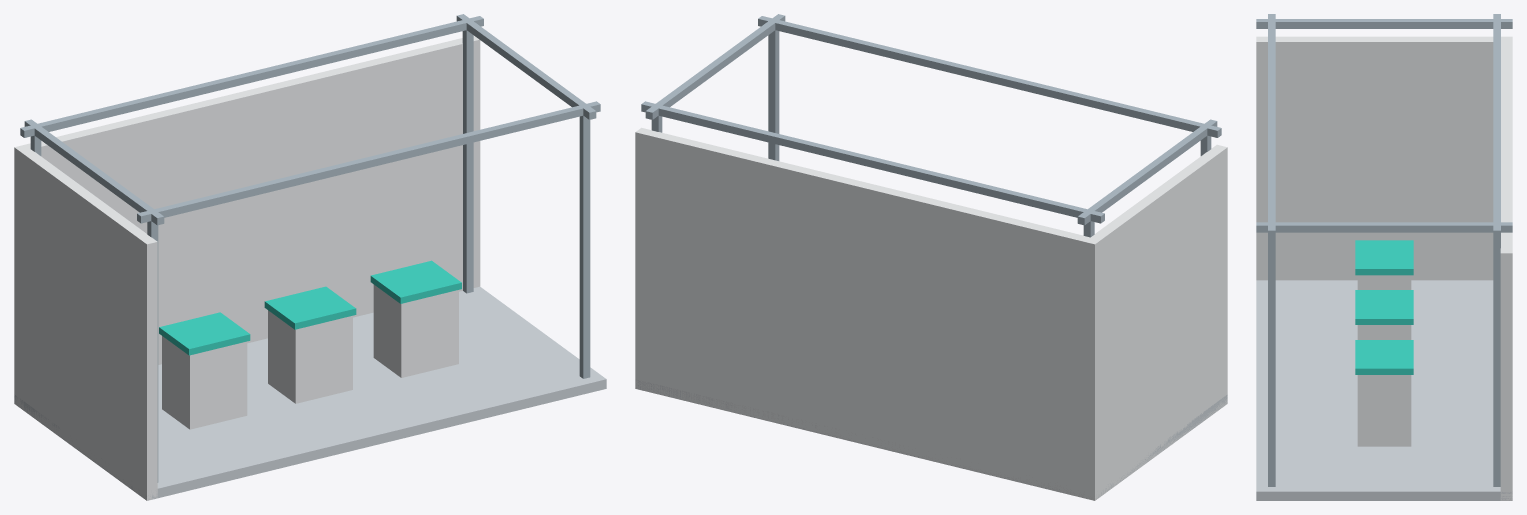
3 views of the same model, side by side, from view 1: azimuth 30°, elevation 25°; view 2: azimuth 150°, elevation 25°; view 3: azimuth 270°, elevation 25° (orthographic). The views are drawn at different scales.
Visible parts, largest first — view 1: Exhibition Booth Concept; view 2: Exhibition Booth Concept; view 3: Exhibition Booth Concept.
Boxes of the visible parts, x1=… form: Exhibition Booth Concept: x1=14, y1=14, x2=606, y2=500; Exhibition Booth Concept: x1=635, y1=14, x2=1227, y2=500; Exhibition Booth Concept: x1=1256, y1=14, x2=1512, y2=500.
Size of the model in its own units: 6 by 3.49 by 3.
